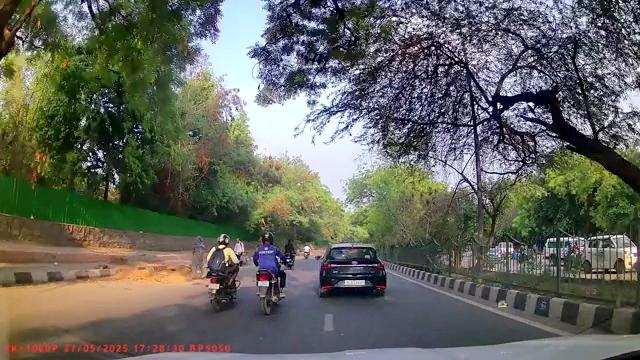motorcycle_with_helmet: (205, 232, 242, 312), (253, 230, 287, 315)
